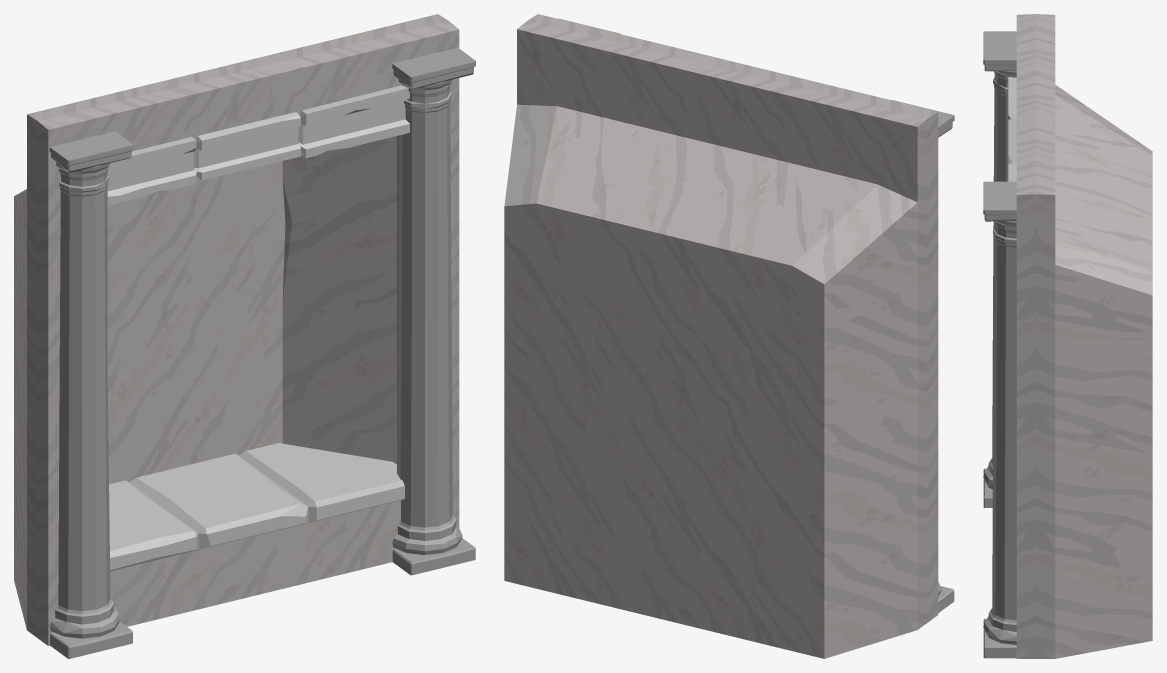
Rendered from SM_Bld_Wall_Seat_01.fbx.
The picture shows the model from 3 angles, left to right: view 1: azimuth 30°, elevation 25°; view 2: azimuth 150°, elevation 25°; view 3: azimuth 270°, elevation 25°; orthographic projection. The views are drawn at different scales.
Visible parts, largest first — view 1: SM_Bld_Wall_Seat_01; view 2: SM_Bld_Wall_Seat_01; view 3: SM_Bld_Wall_Seat_01.
Boxes of the visible parts, x1,y1,x2,y2 form: SM_Bld_Wall_Seat_01: (14,14,475,658); SM_Bld_Wall_Seat_01: (504,14,954,658); SM_Bld_Wall_Seat_01: (983,14,1152,658).
Size of the model in its own units: 250 by 301 by 99.37.
